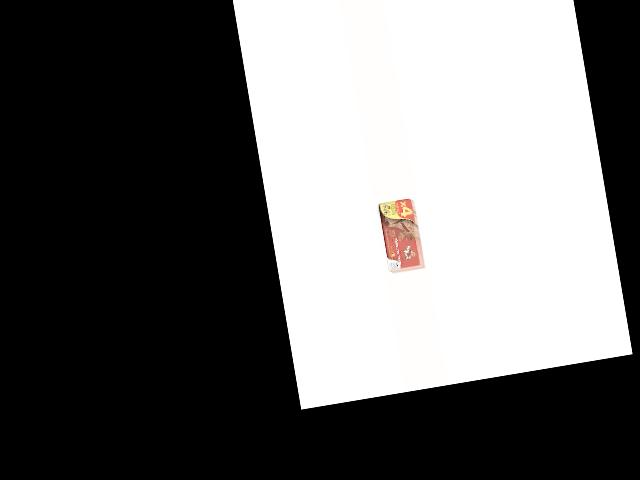chocolate: (375, 196, 424, 273)
